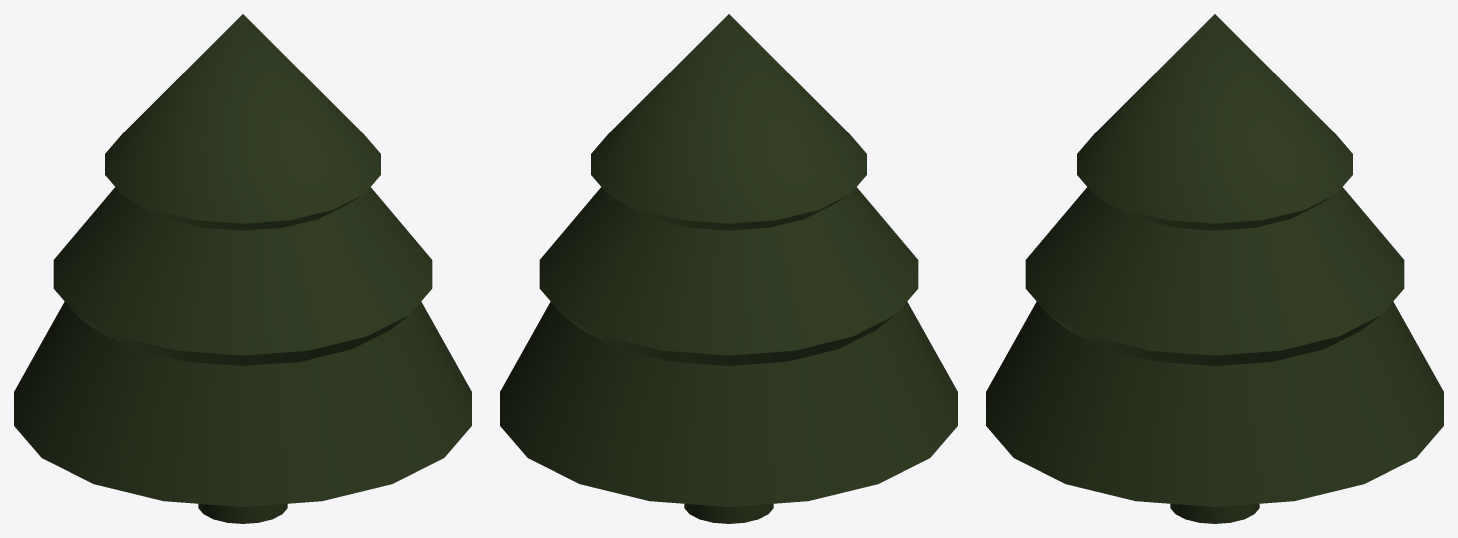
Rendered from Arbre.fbx.
3 views of the same model, side by side, from view 1: azimuth 30°, elevation 25°; view 2: azimuth 150°, elevation 25°; view 3: azimuth 270°, elevation 25° (orthographic).
Visible parts, largest first — view 1: Cylinder001; view 2: Cylinder001; view 3: Cylinder001.
Part boxes in pixels (x1,y1,x2,y2): Cylinder001: (14,14,471,523); Cylinder001: (500,14,957,523); Cylinder001: (986,14,1443,523).
Size of the model in its own units: 30.27 by 29.81 by 35.26.
